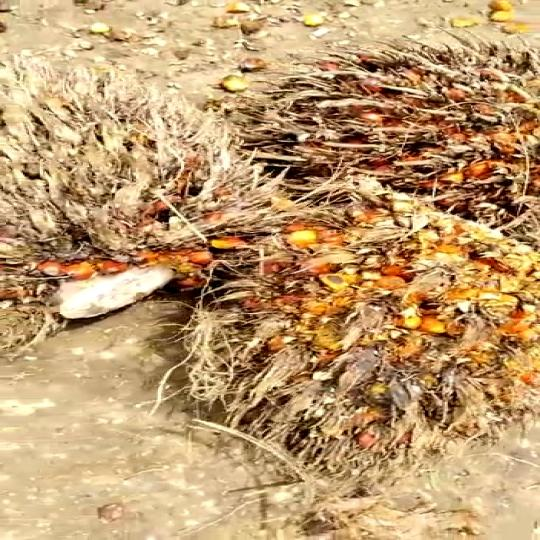terlalu masak: (172, 194, 540, 464), (0, 104, 296, 304)
